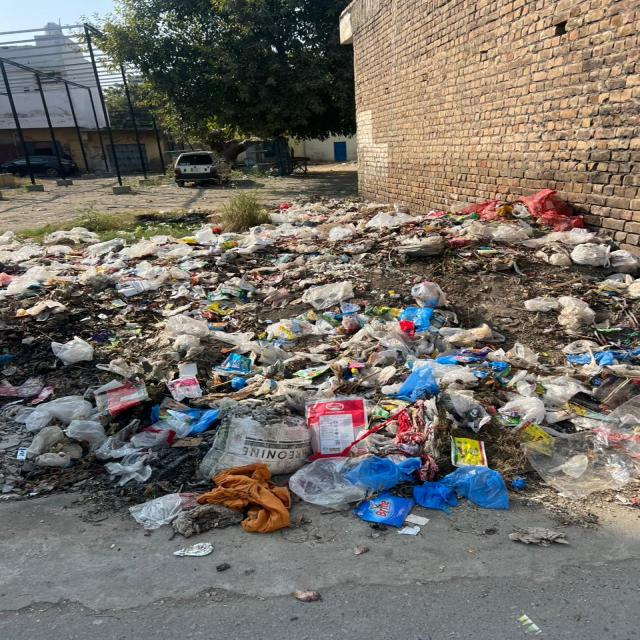garbage: (6, 204, 640, 512)
